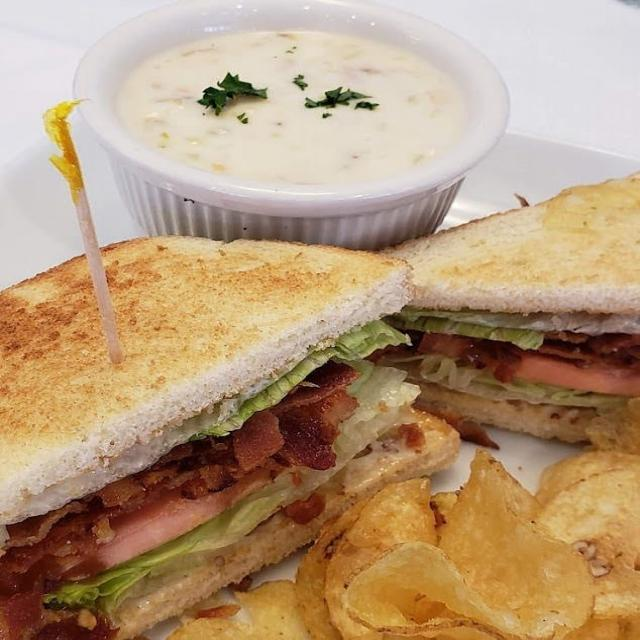Sandwich: (4, 184, 639, 507)
